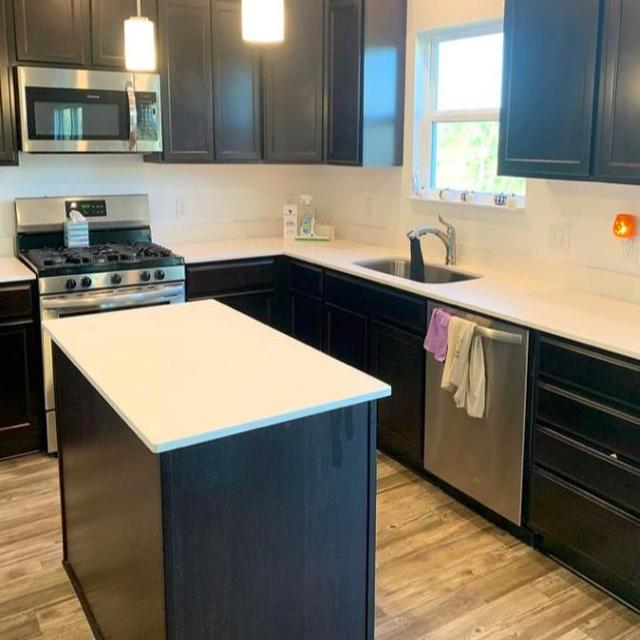dishwasher: (423, 293, 524, 528)
